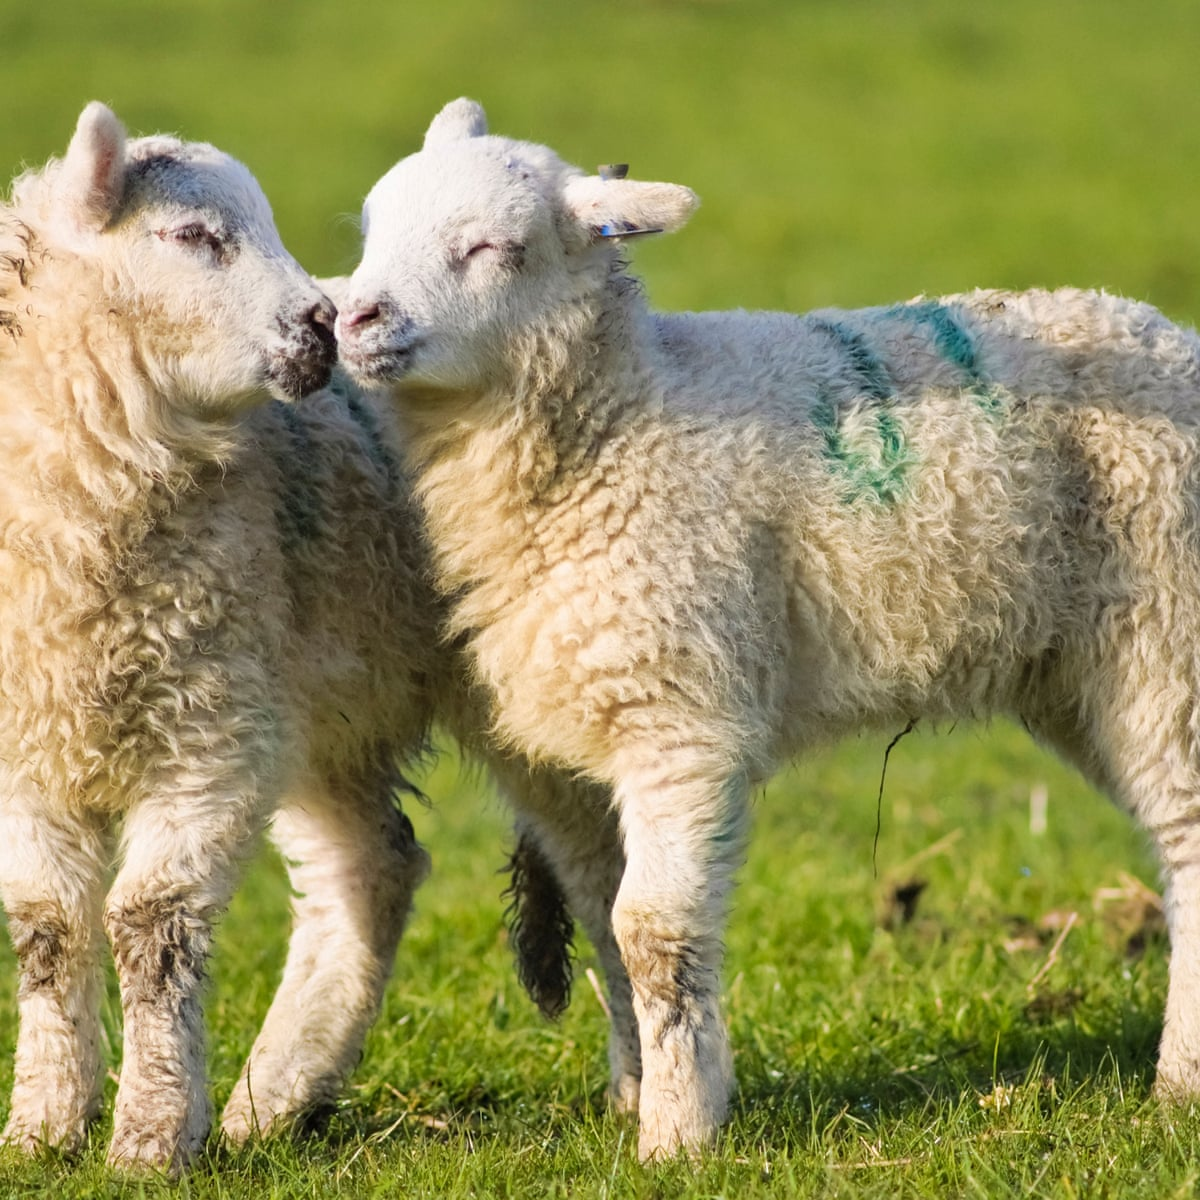koyun: (344, 113, 1200, 1126), (1, 107, 355, 1174)
